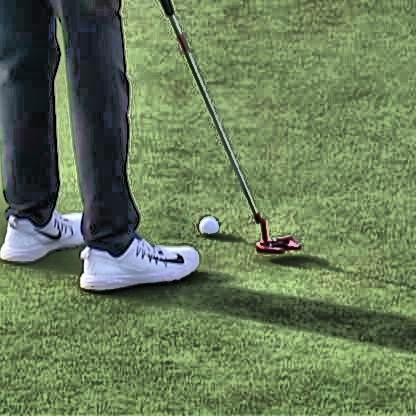golfball: (196, 213, 218, 235)
